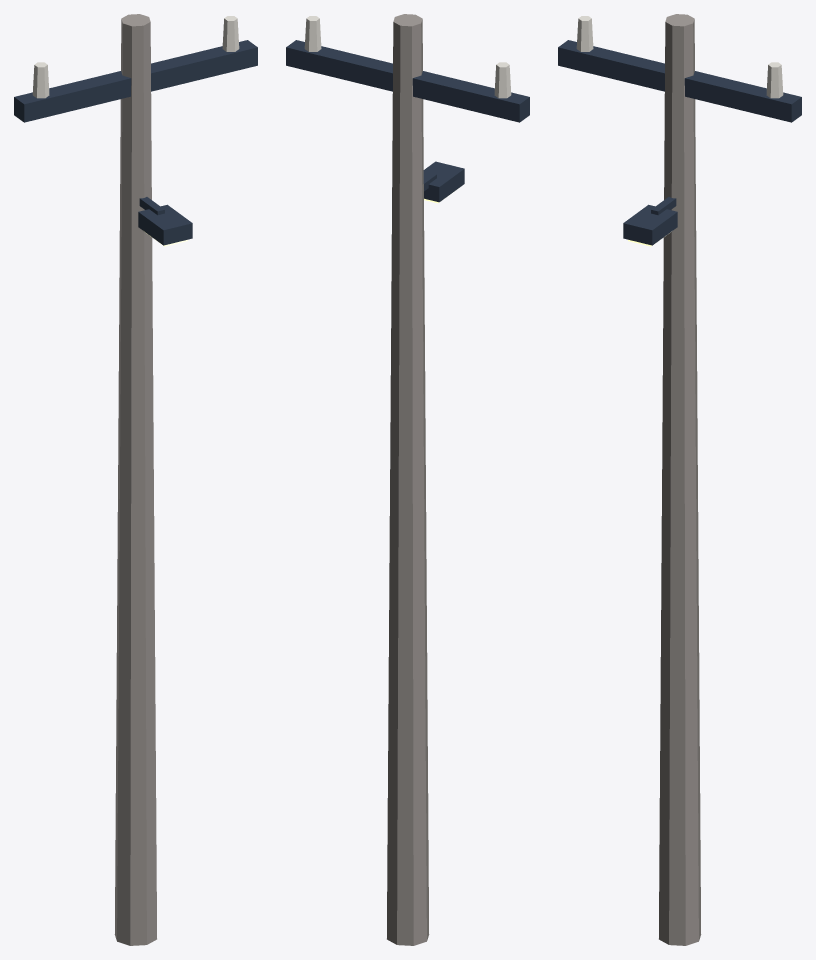
The model's file is tiang_listrik_v001.glb.
3 views of the same model, side by side, from view 1: azimuth 30°, elevation 25°; view 2: azimuth 150°, elevation 25°; view 3: azimuth 330°, elevation 25° (orthographic).
Parts seen in each view (by area): view 1: Tiang_Listrik; view 2: Tiang_Listrik; view 3: Tiang_Listrik.
Part boxes in pixels (x1=…): Tiang_Listrik: x1=14, y1=14, x2=257, y2=945; Tiang_Listrik: x1=286, y1=14, x2=529, y2=945; Tiang_Listrik: x1=558, y1=14, x2=801, y2=945.
Size of the model in its own units: 1.6 by 6 by 0.63.
